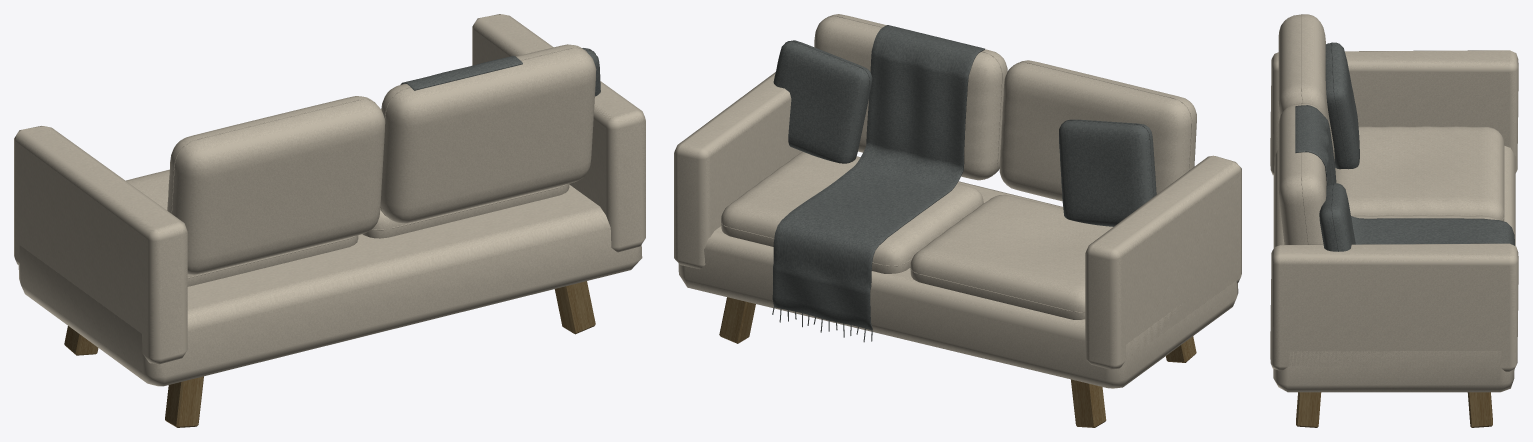
The picture shows the model from 3 angles, left to right: view 1: azimuth 30°, elevation 25°; view 2: azimuth 150°, elevation 25°; view 3: azimuth 270°, elevation 25°; orthographic projection. The views are drawn at different scales.
Visible parts, largest first — view 1: Mesh_linen, Mesh_warm, Mesh_throw; view 2: Mesh_linen, Mesh_throw, Mesh_warm; view 3: Mesh_linen, Mesh_throw, Mesh_warm.
Part boxes in pixels (x1,y1,x2,y2): Mesh_linen: (14,14,645,386); Mesh_warm: (64,281,595,427); Mesh_throw: (400,48,600,96); Mesh_linen: (674,14,1241,388); Mesh_throw: (772,25,1156,342); Mesh_warm: (719,297,1196,427); Mesh_linen: (1270,14,1518,392); Mesh_throw: (1295,42,1514,251); Mesh_warm: (1296,392,1492,427).
Size of the model in its own units: 1.65 by 0.9138 by 0.8259.
3 materials, 3 textured.
